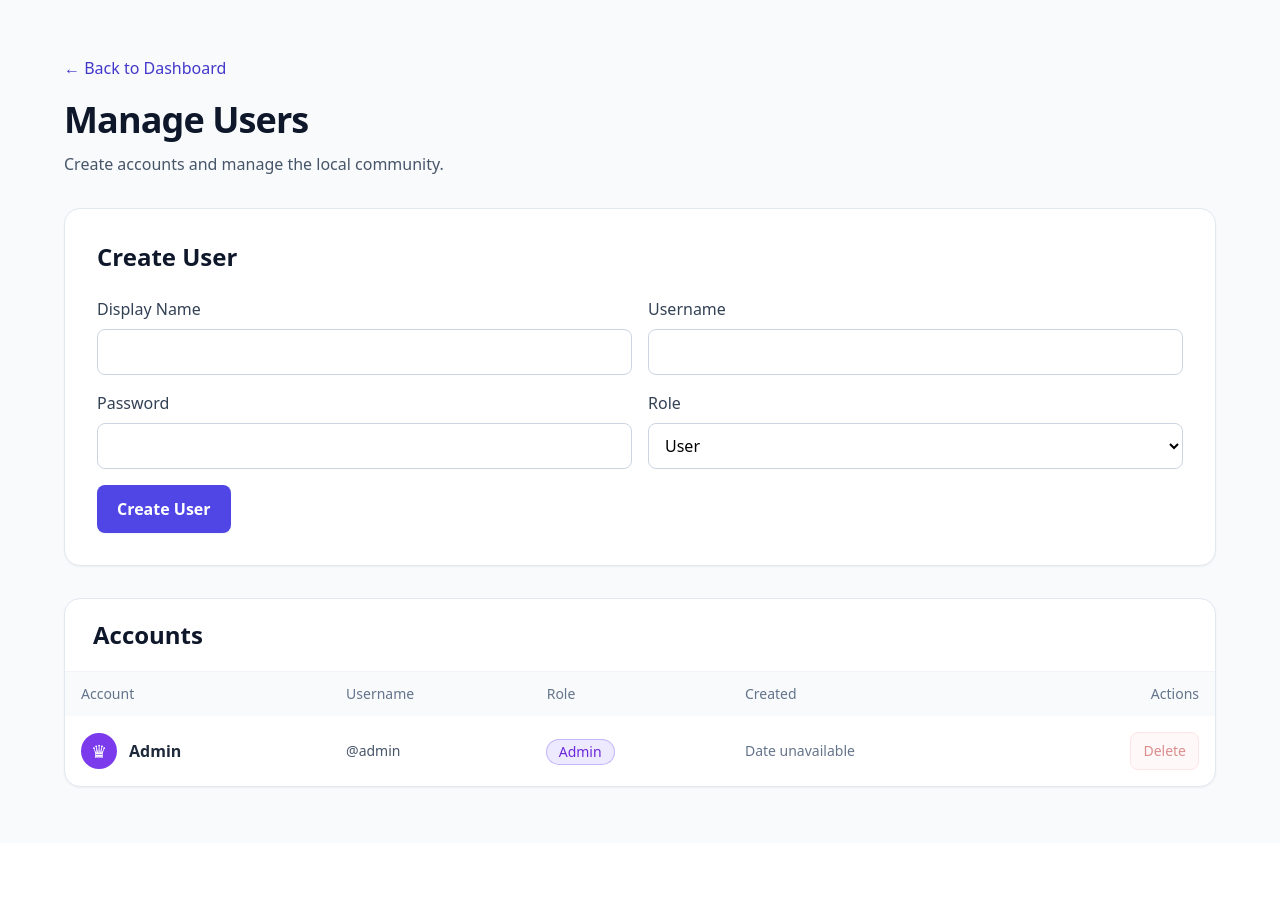
it: user management › creates a user account and persists the complete selected-role record
Type "Ari North" into the field labelled "Display Name".
click(364, 352); type("Ari North")  # box [97,329,632,375]
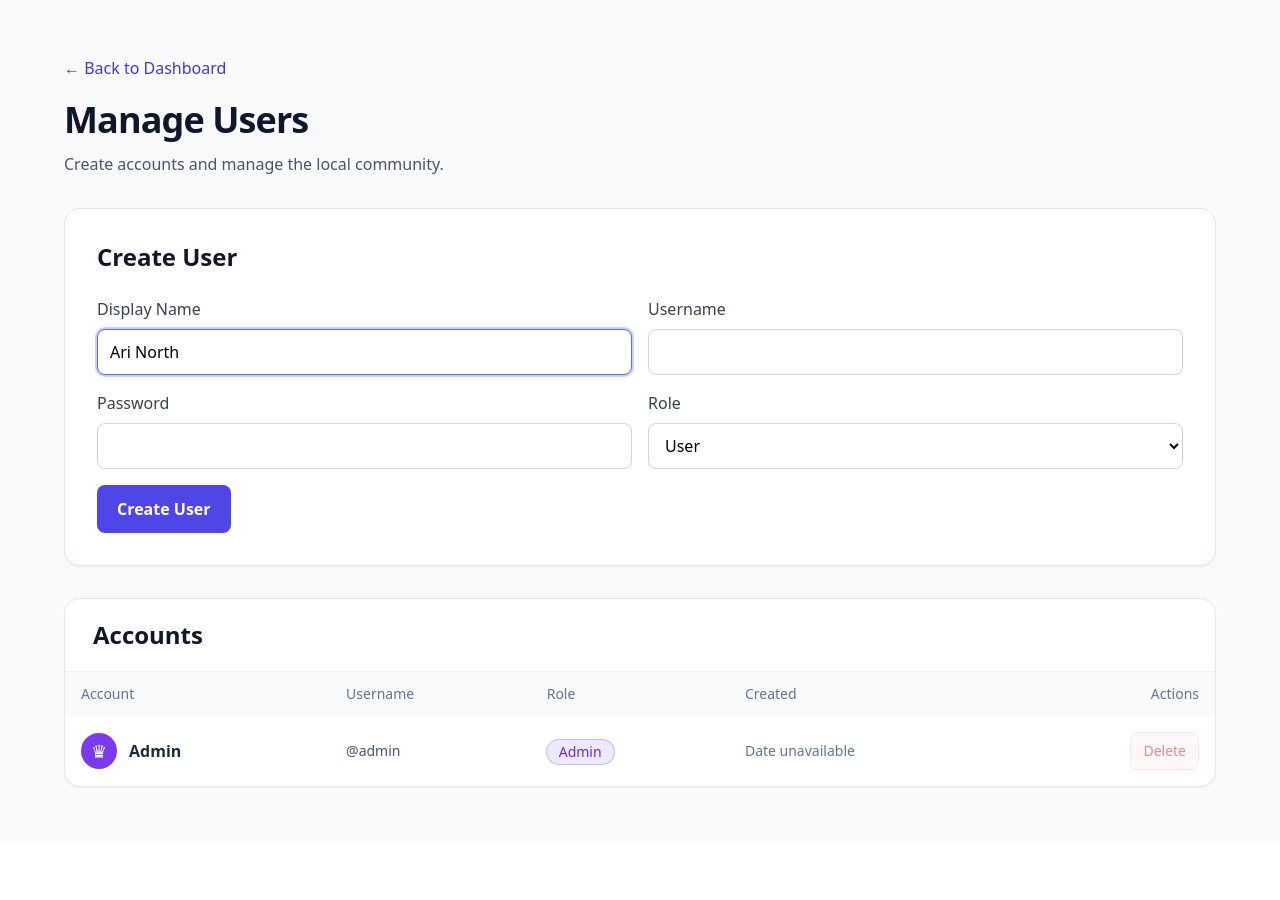
Type "ari" into the field labelled "Username".
click(916, 352); type("ari")  # box [648,329,1183,375]
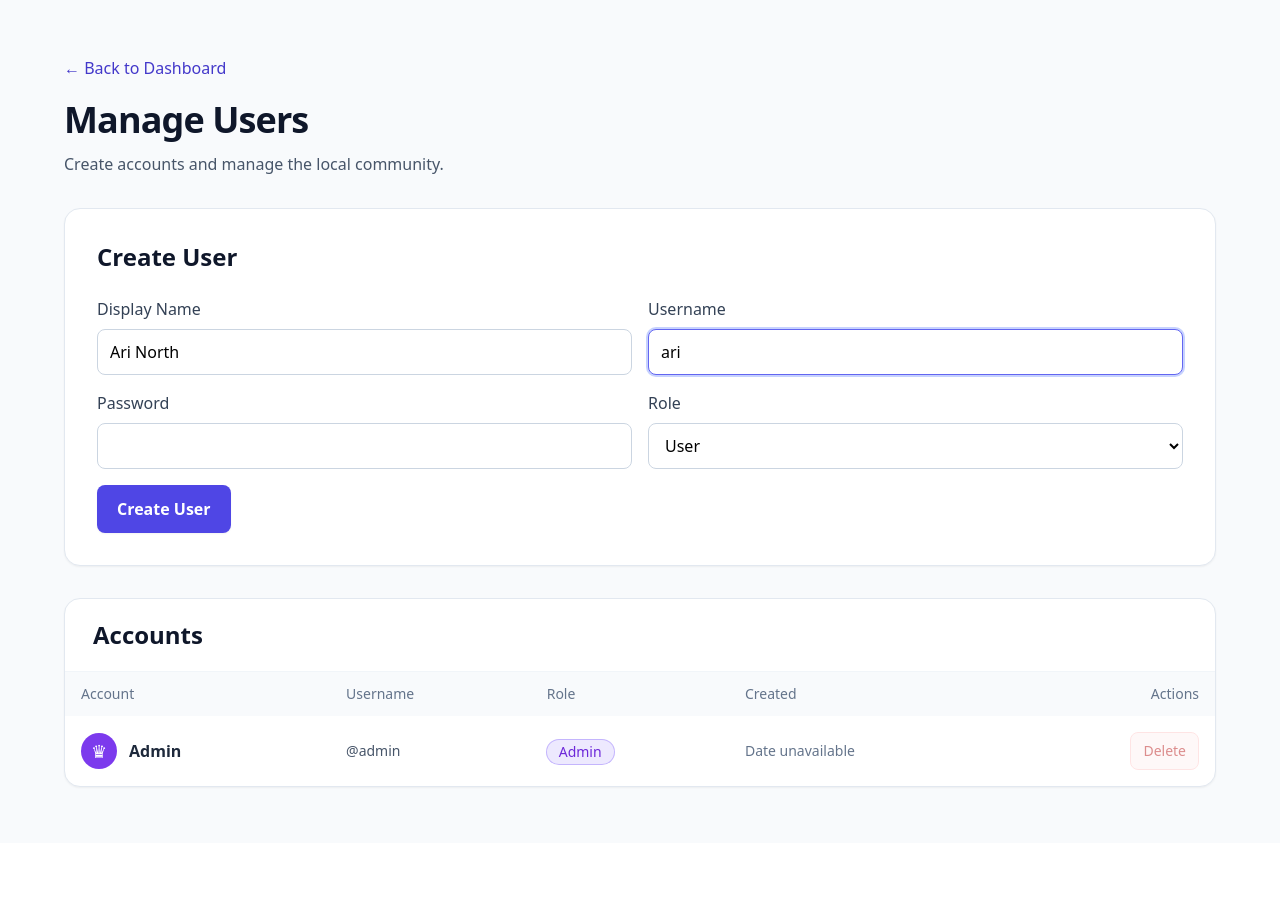
Type "secret" into the password field labelled "Password".
click(364, 446); type("secret")  # box [97,423,632,469]
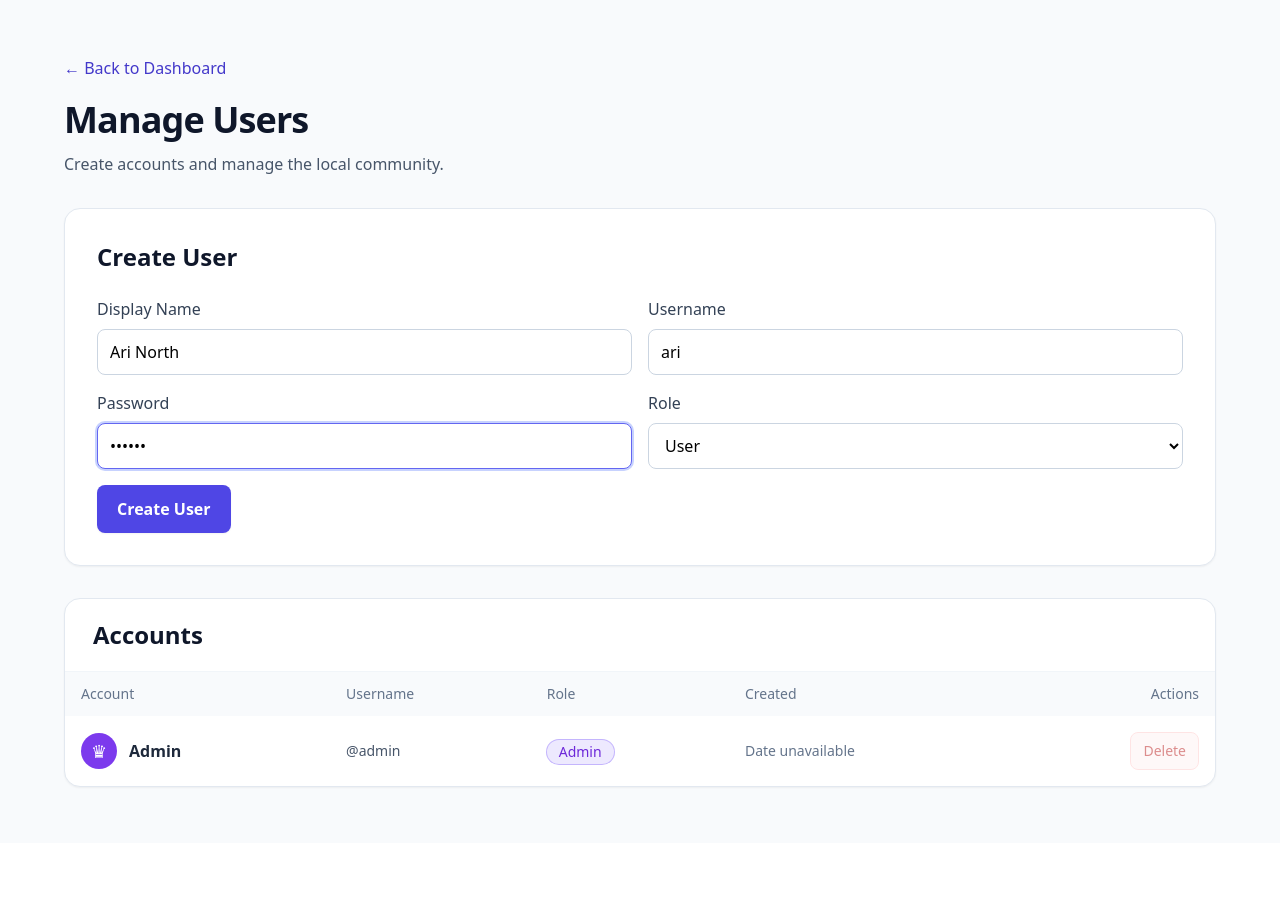
Select "Admin" in the dropdown labelled "Role" at {"x": 916, "y": 446}, box [648,423,1183,469]
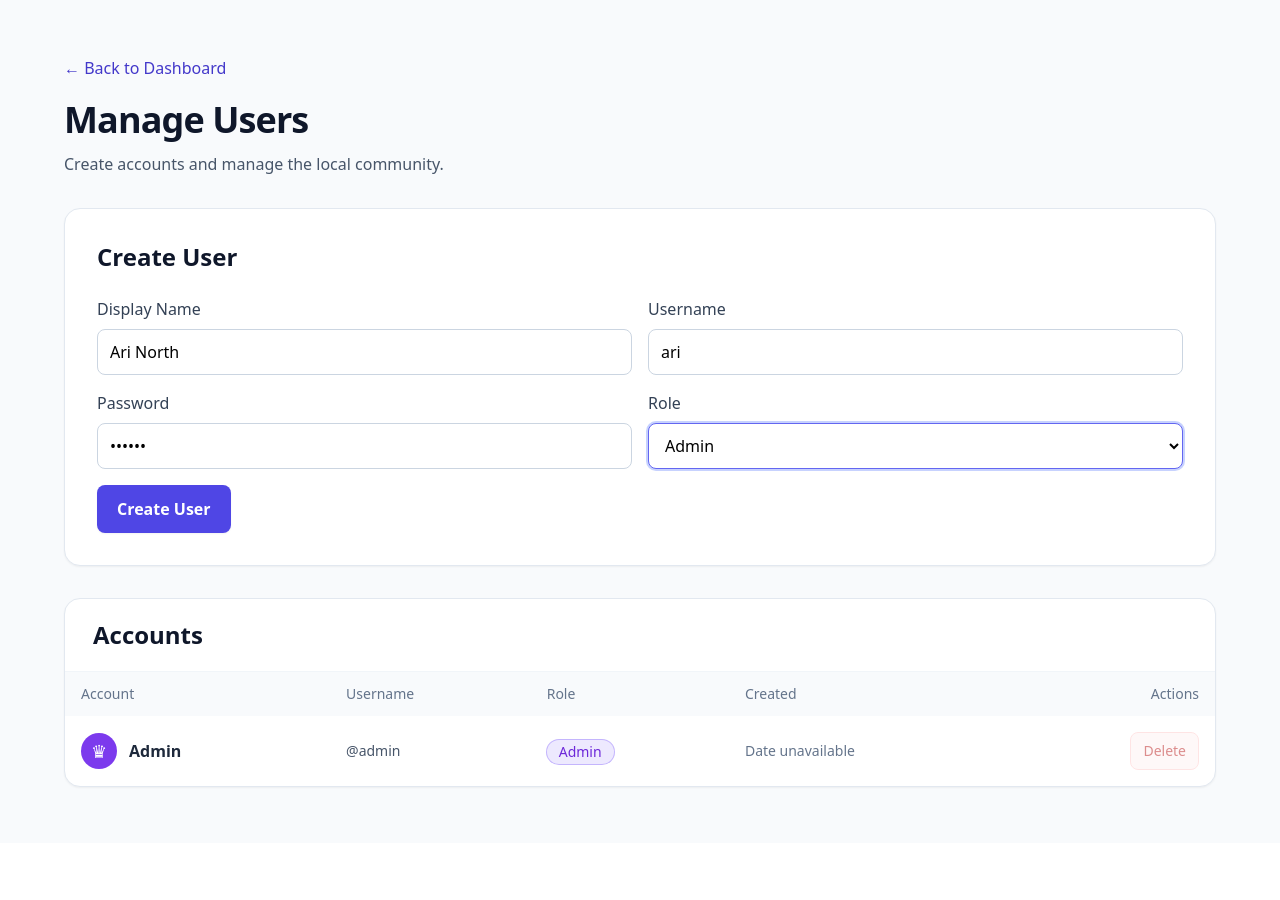
Click the button "Create User".
click(164, 509)  # box [97,485,231,533]
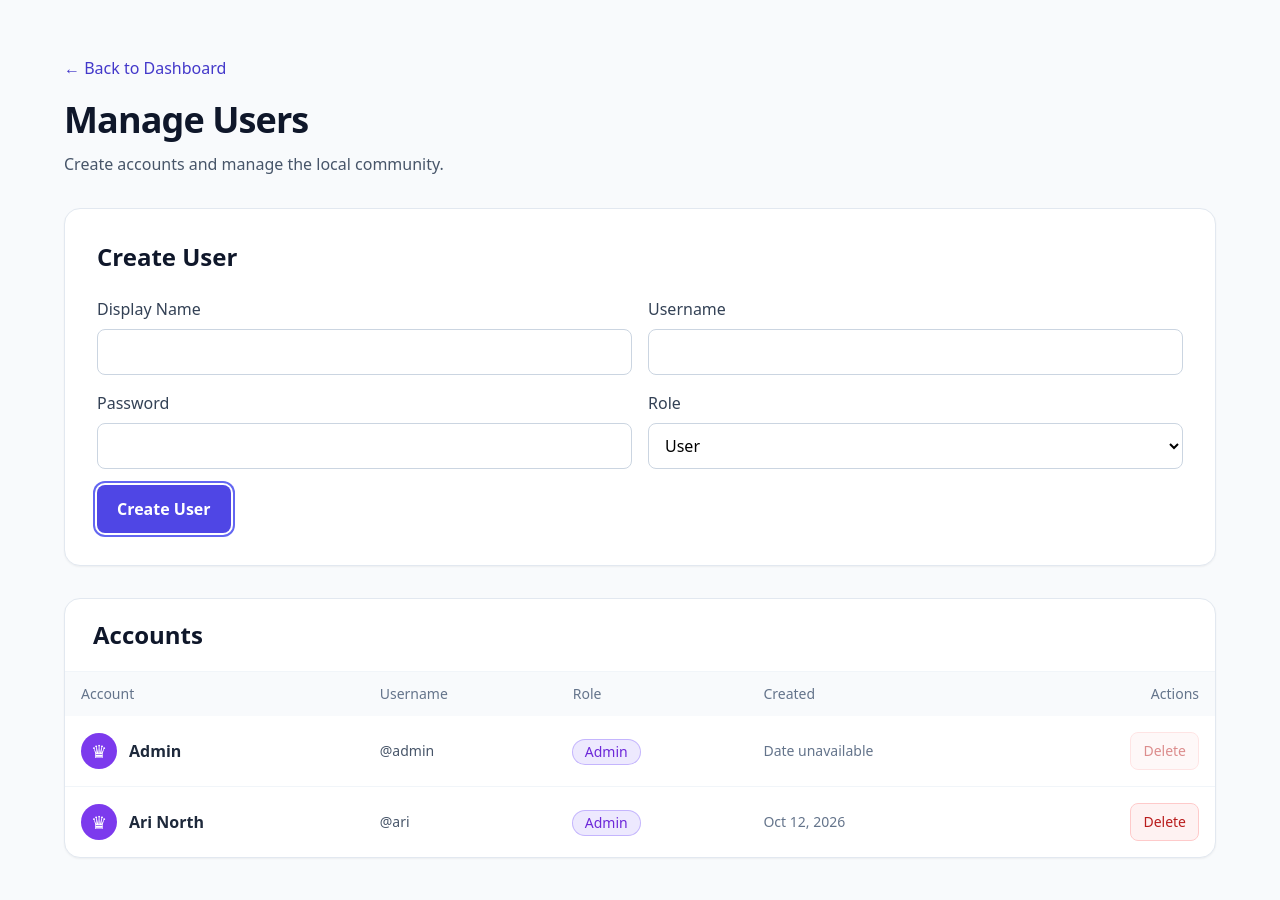
Result: the text "Ari North" is shown at [129,810,204,834]
